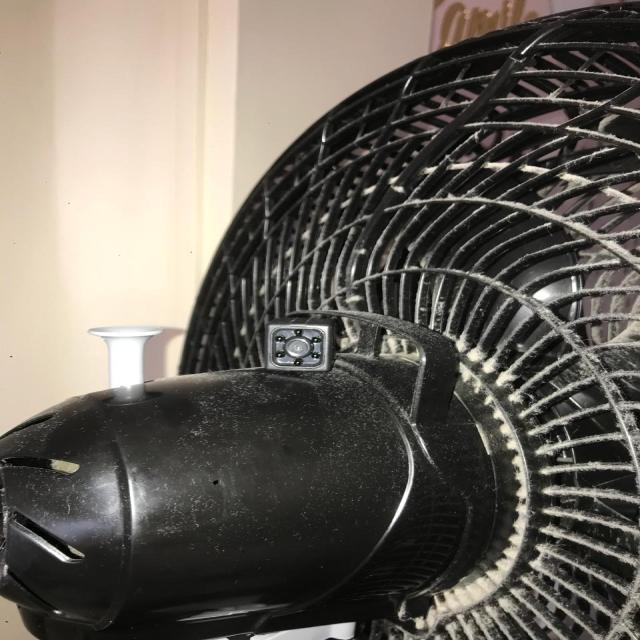hidden camera: (284, 339, 310, 358)
